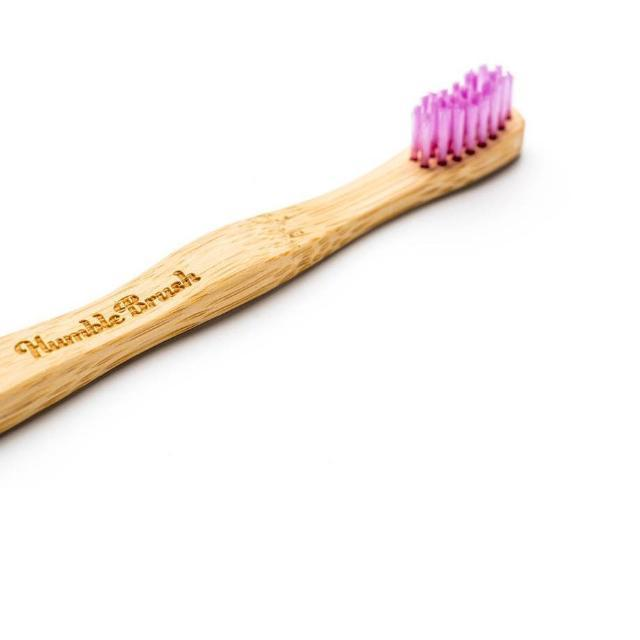toothbrush: (0, 45, 540, 468)
